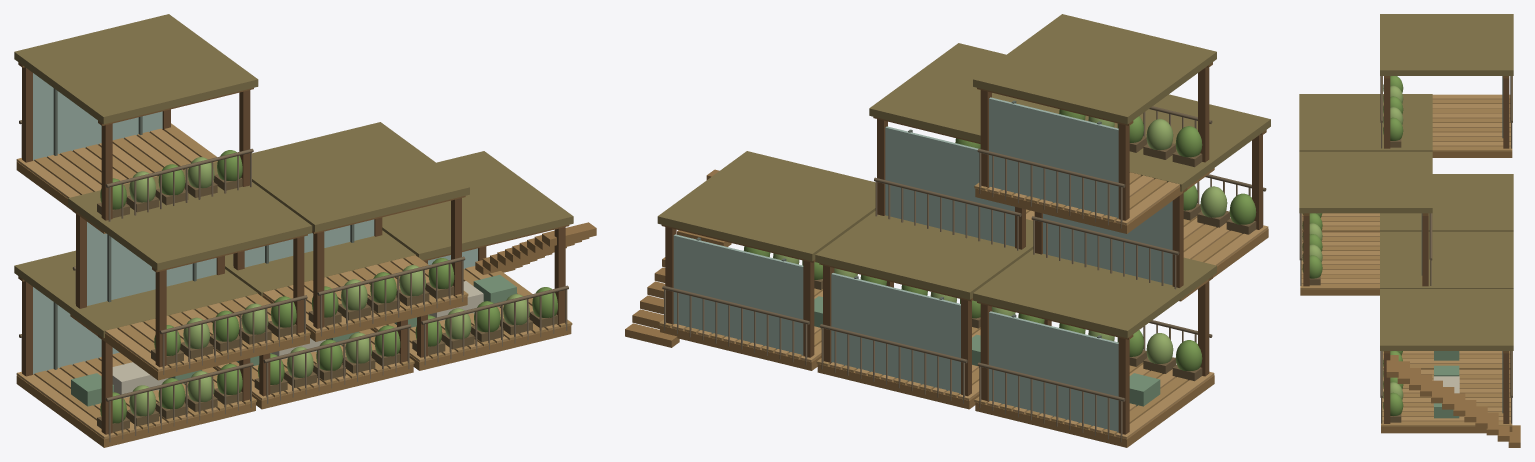
Rendered from timber-house.glb.
3 views of the same model, side by side, from view 1: azimuth 30°, elevation 25°; view 2: azimuth 150°, elevation 25°; view 3: azimuth 270°, elevation 25° (orthographic). The views are drawn at different scales.
Visible parts, largest first — view 1: part-5, part-3, part-4, part-0, part-2, part-1, stairs; view 2: part-5, part-0, part-2, part-1, part-3, part-4, stairs; view 3: part-5, part-2, part-4, part-1, part-3, part-0, stairs.
Part boxes in pixels (x1,y1,x2,y2): part-5: (14, 14, 258, 233); part-3: (68, 161, 312, 380); part-4: (233, 122, 469, 341); part-0: (14, 250, 258, 447); part-2: (370, 151, 573, 370); part-1: (213, 230, 415, 409); stairs: (475, 222, 596, 274); part-5: (973, 14, 1216, 233); part-0: (973, 249, 1216, 447); part-2: (657, 151, 893, 370); part-1: (815, 211, 1051, 409); part-3: (1031, 94, 1270, 301); part-4: (869, 43, 1059, 250); stairs: (625, 169, 731, 347); part-5: (1380, 14, 1513, 157); part-2: (1380, 289, 1513, 433); part-4: (1299, 151, 1432, 295); part-1: (1380, 231, 1513, 369); part-3: (1299, 94, 1432, 232); part-0: (1380, 174, 1513, 231); stairs: (1386, 355, 1520, 447).
Bounding box in the file's own units: 8.53 × 5.52 × 4.4.
